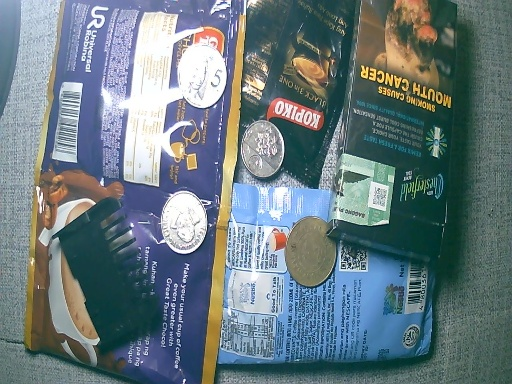cardboard: (347, 1, 469, 273)
metal: (50, 207, 163, 341), (282, 215, 335, 285), (176, 46, 227, 110), (241, 123, 285, 180), (161, 193, 203, 251)
plastic: (22, 1, 238, 382), (225, 178, 438, 369), (239, 1, 349, 185)
